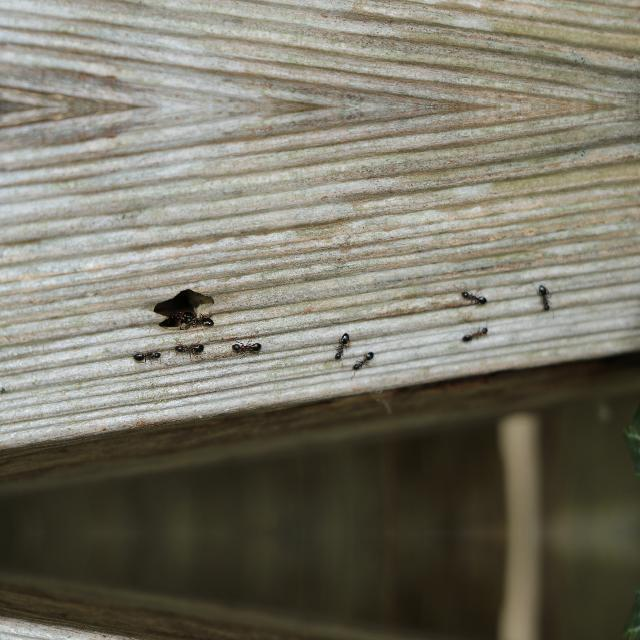Dolichoderus: (520, 277, 564, 319), (325, 326, 359, 360), (346, 348, 380, 374), (454, 322, 494, 344), (180, 308, 220, 328), (227, 334, 267, 354), (168, 338, 208, 357), (454, 286, 490, 306), (128, 344, 166, 362)
